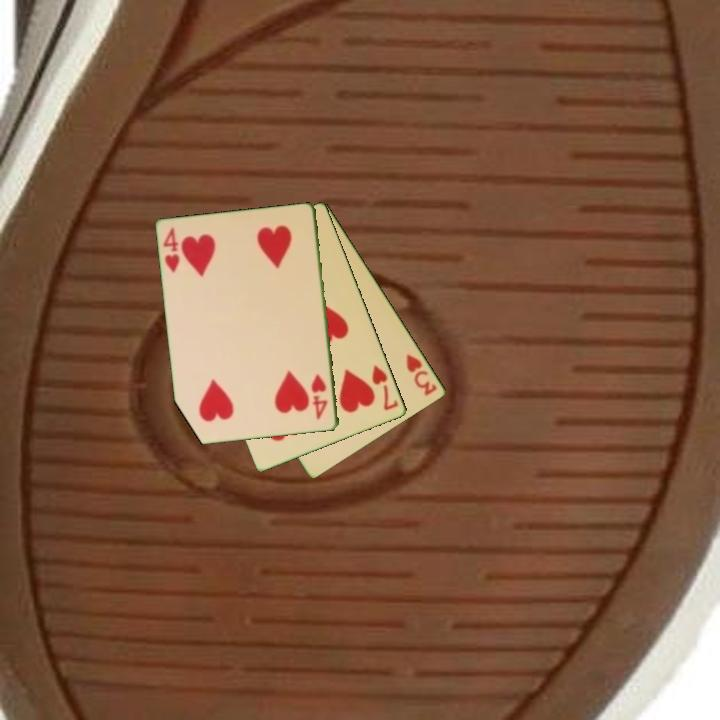3h: (403, 350, 440, 399)
4h: (308, 371, 331, 423), (160, 224, 183, 276)
7h: (369, 362, 401, 413)
